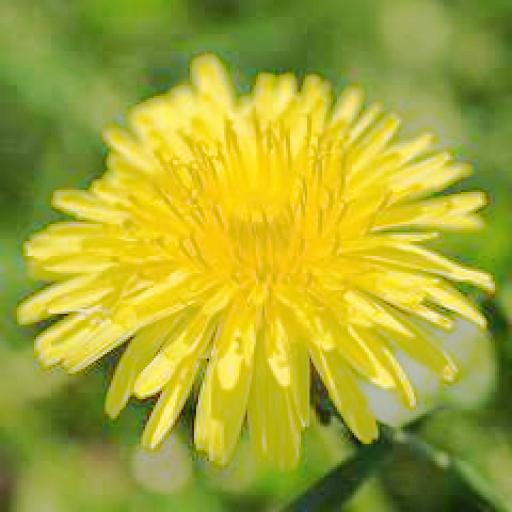dandelion: (26, 66, 499, 459)
